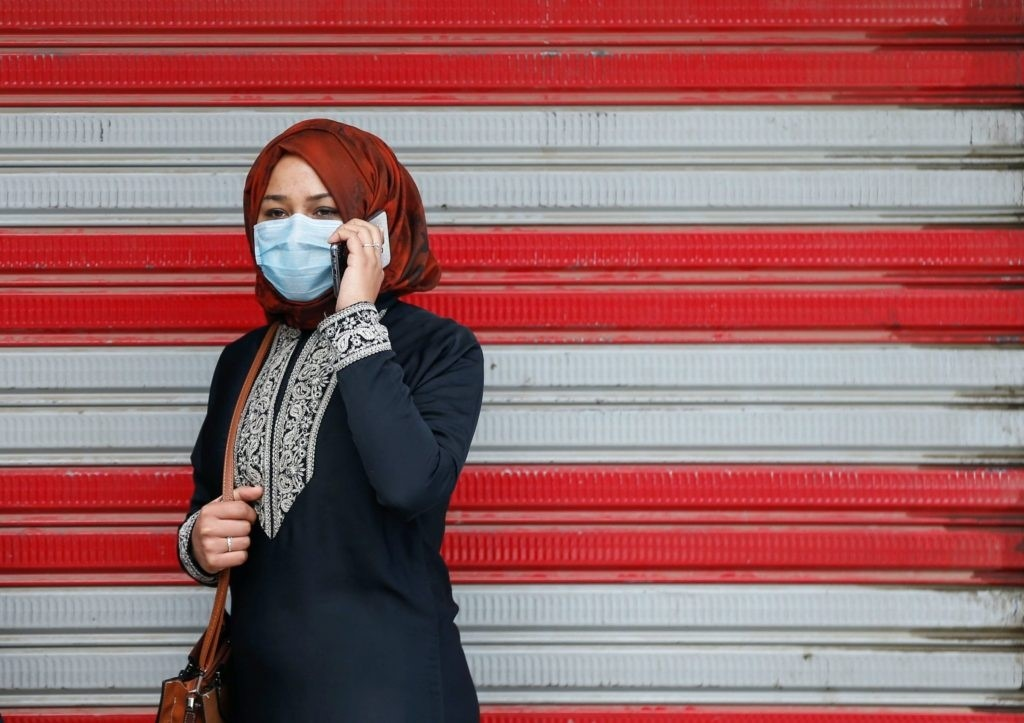face_with_mask: (236, 126, 395, 319)
